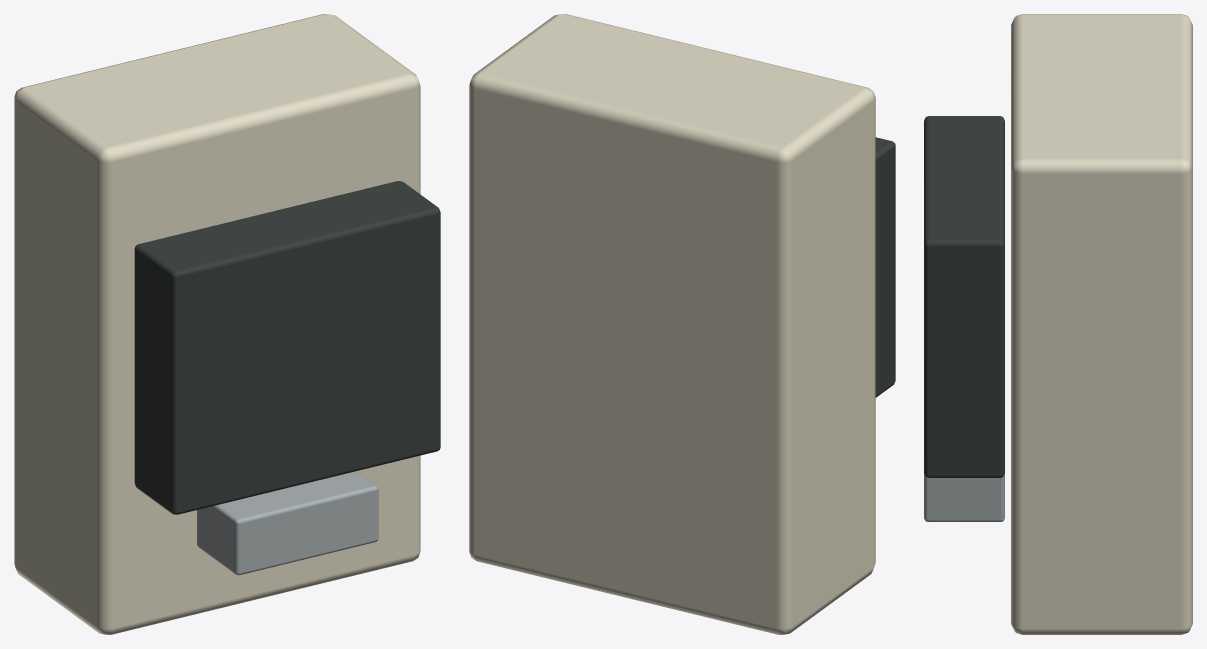
File: off-grid-power-and-controls-weatherproof-socket-6c48640d__2994.glb
3 renders of one model, left to right at view 1: azimuth 30°, elevation 25°; view 2: azimuth 150°, elevation 25°; view 3: azimuth 270°, elevation 25°, orthographic. The views are drawn at different scales.
Visible parts, largest first — view 1: weatherproof-socket, cover/dark; view 2: weatherproof-socket, cover/dark; view 3: weatherproof-socket, cover/dark.
Boxes of the visible parts, x1,y1,x2,y2 form: weatherproof-socket: (14,14,420,634); cover/dark: (134,181,440,514); weatherproof-socket: (469,14,875,634); cover/dark: (875,137,895,397); weatherproof-socket: (924,14,1192,634); cover/dark: (924,116,1004,477).
Bounding box in the file's own units: 0.09 × 0.13 × 0.0665.
